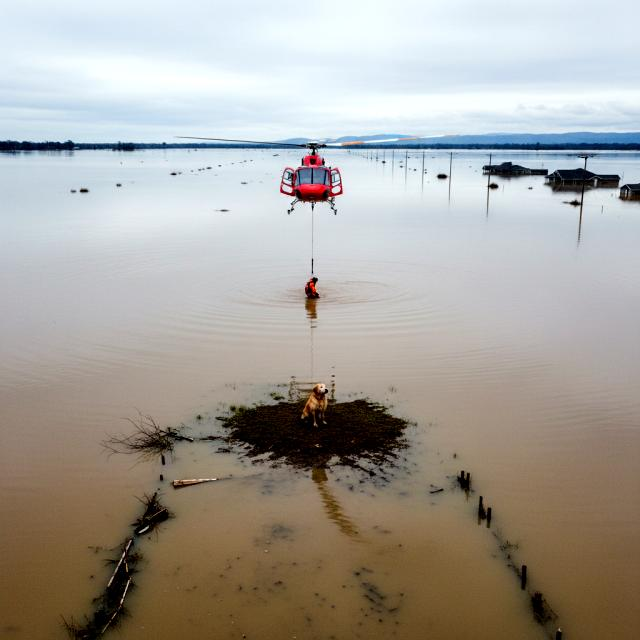dog: (299, 380, 337, 428)
rescuer: (301, 272, 326, 302)
